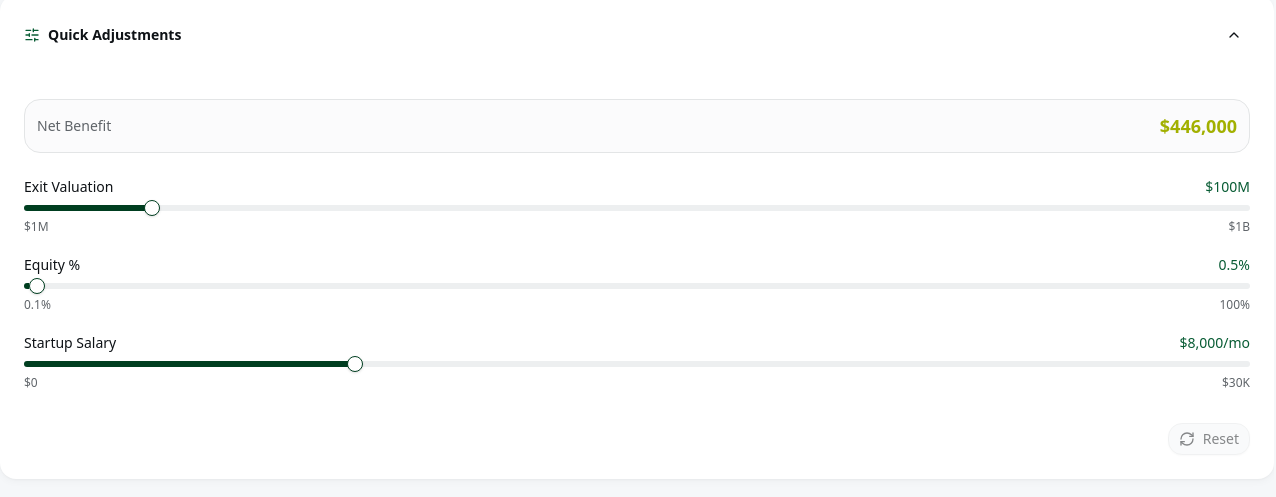
Test: QuickAdjustPanel › collapsed state › can be collapsed and expanded
Expected: the text "Exit Valuation" is shown, x1=24 y1=177 x2=113 y2=197
// Find and click the collapse toggle
Click the button named "Collapse panel" at {"x": 1234, "y": 35}, box x1=1218 y1=19 x2=1250 y2=51
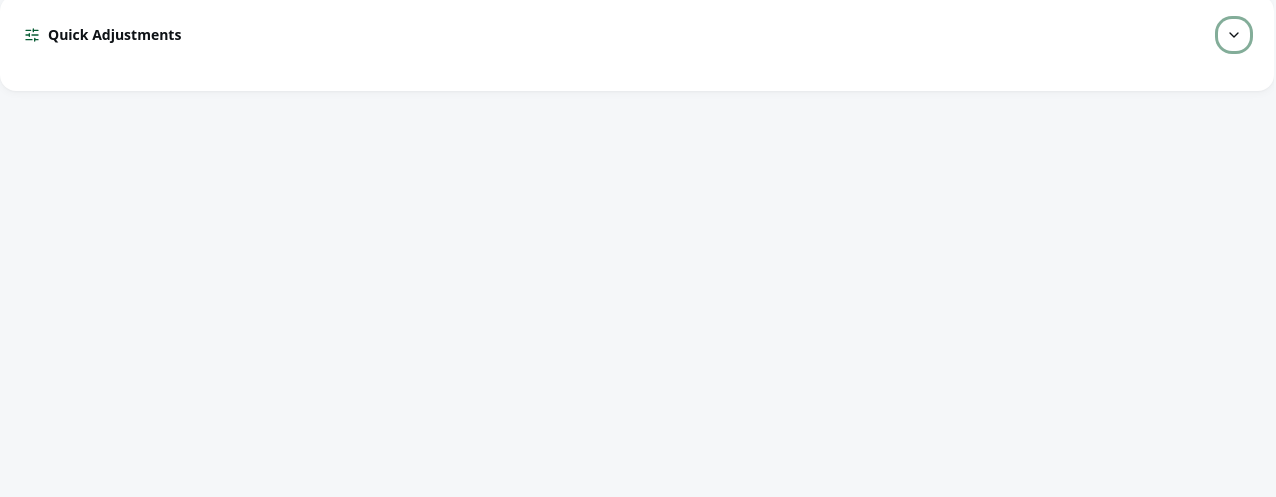
Now the text "Exit Valuation" is gone
